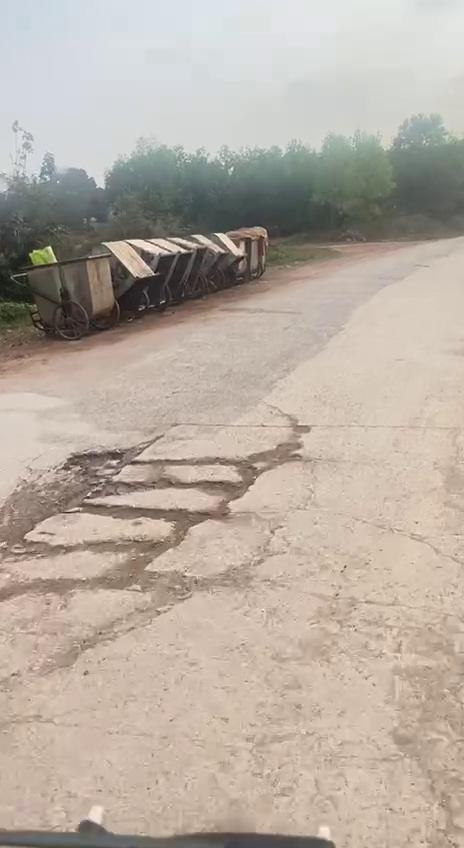pothole: (0, 420, 313, 596)
